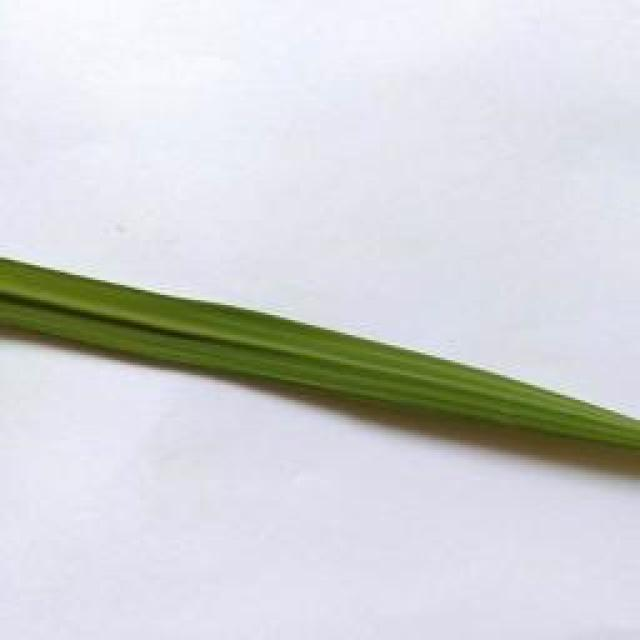Healthy-Plant: (0, 236, 640, 476)
